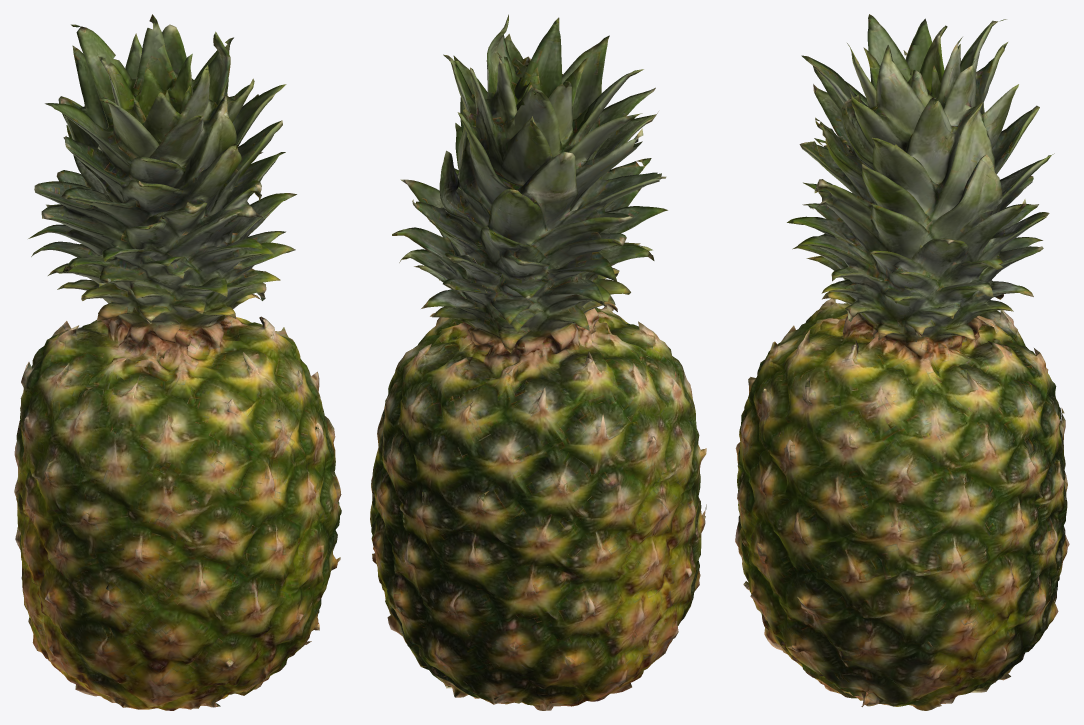
File: scene_web.glb
3 views of the same model, side by side, from view 1: azimuth 30°, elevation 25°; view 2: azimuth 150°, elevation 25°; view 3: azimuth 270°, elevation 25° (orthographic).
Parts seen in each view (by area): view 1: Object_2; view 2: Object_2; view 3: Object_2.
Boxes of the visible parts, x1,y1,x2,y2 form: Object_2: (14,14,341,710); Object_2: (370,14,706,710); Object_2: (735,14,1069,710).
Bounding box in the file's own units: 1.49 × 3.2 × 1.5.
Materials: 1 (1 with a texture image).
